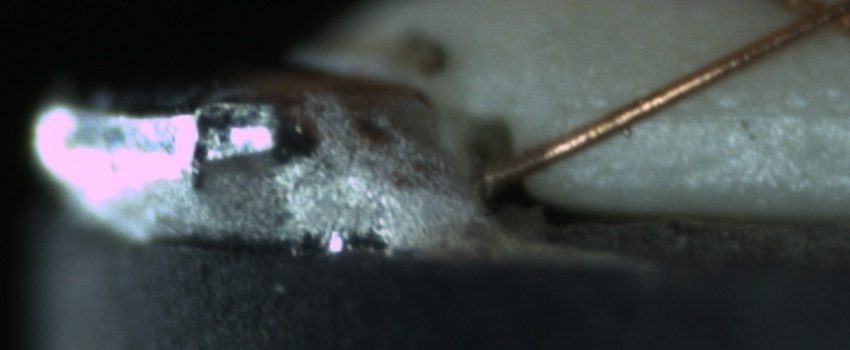CL: (772, 0, 847, 41)
DL: (572, 79, 845, 145)
